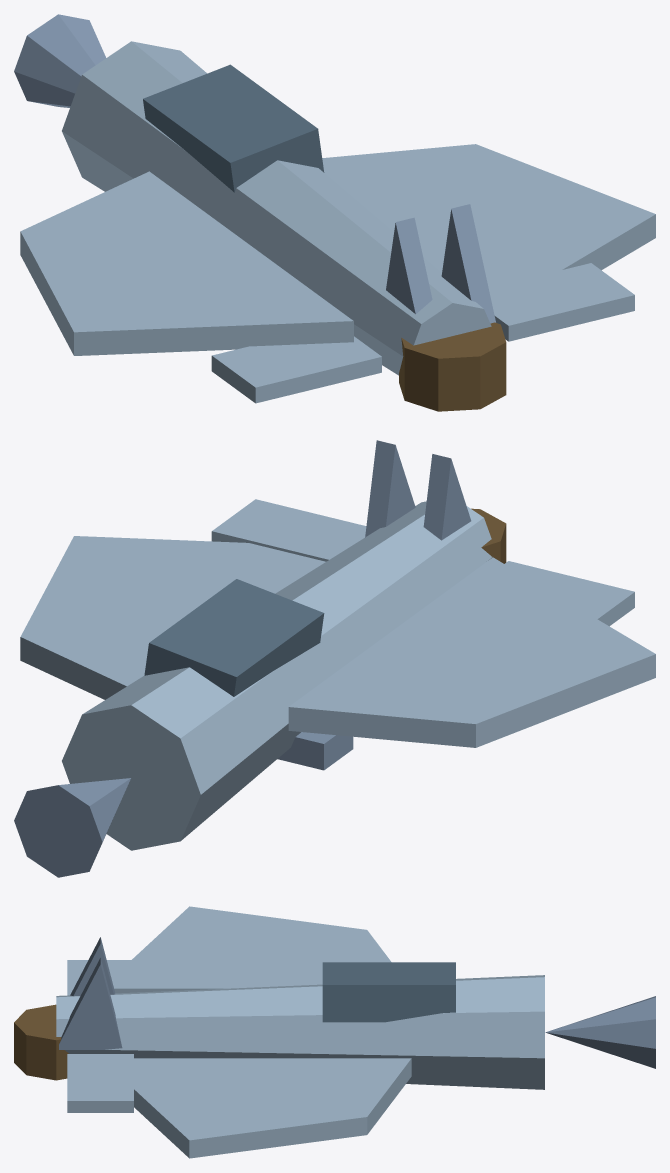
File: unit_fighter.glb
The picture shows the model from 3 angles, top to bottom: view 1: azimuth 30°, elevation 25°; view 2: azimuth 150°, elevation 25°; view 3: azimuth 270°, elevation 25°; orthographic projection. The views are drawn at different scales.
Parts seen in each view (by area): view 1: unit_fighter; view 2: unit_fighter; view 3: unit_fighter.
Part boxes in pixels (x1=…): unit_fighter: x1=14, y1=14, x2=655, y2=411; unit_fighter: x1=14, y1=440, x2=655, y2=877; unit_fighter: x1=14, y1=906, x2=655, y2=1158.
Size of the model in its own units: 0.46 by 0.14 by 0.578.
